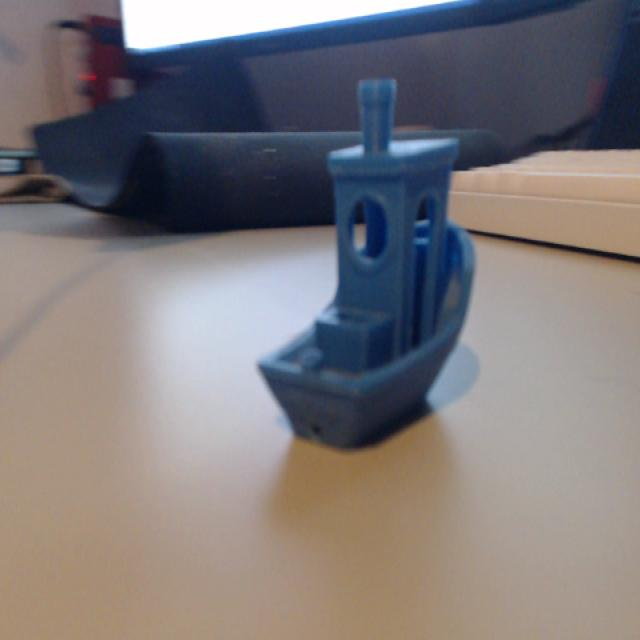benchy: (254, 73, 479, 450)
